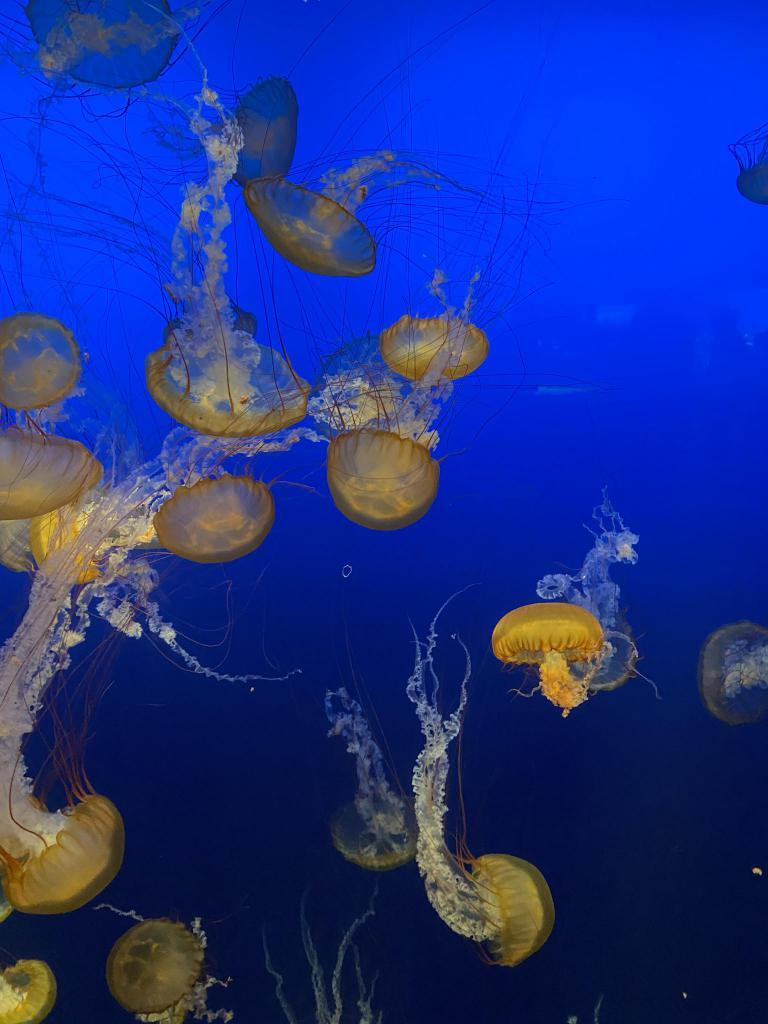jellyfish: (146, 332, 310, 436), (3, 794, 125, 914), (244, 176, 374, 276), (27, 0, 173, 89), (324, 430, 440, 532), (153, 476, 275, 564), (0, 427, 104, 521), (474, 852, 556, 968), (223, 72, 299, 188), (110, 917, 202, 1011), (0, 312, 84, 412), (491, 602, 604, 666), (381, 317, 489, 383), (330, 798, 426, 872), (702, 622, 768, 726), (0, 957, 58, 1023), (736, 158, 768, 204)
